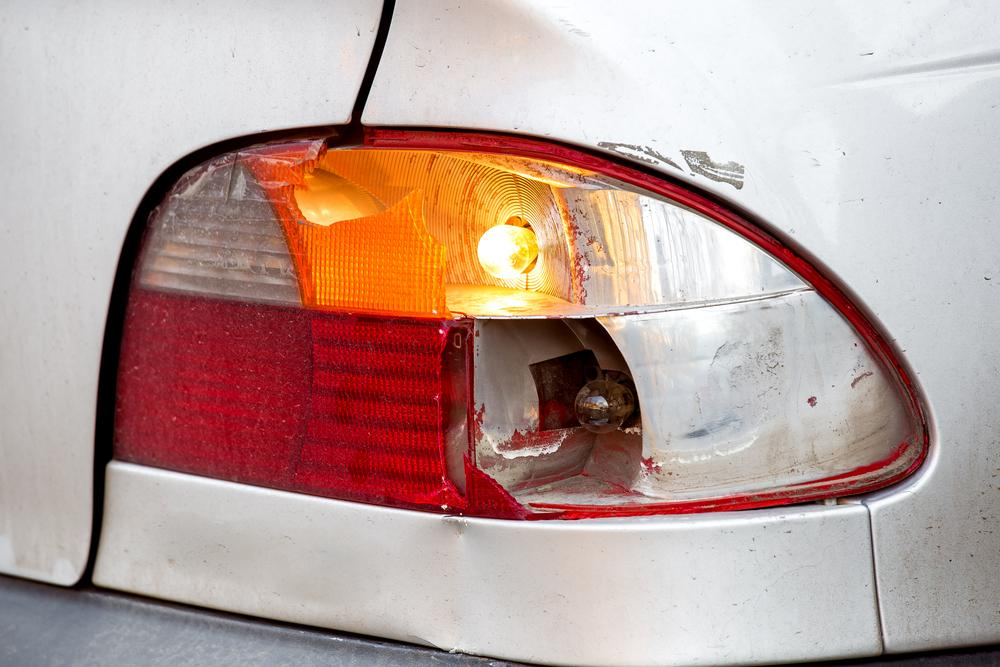dent: (409, 522, 622, 667)
lamp broken: (116, 130, 930, 522)
